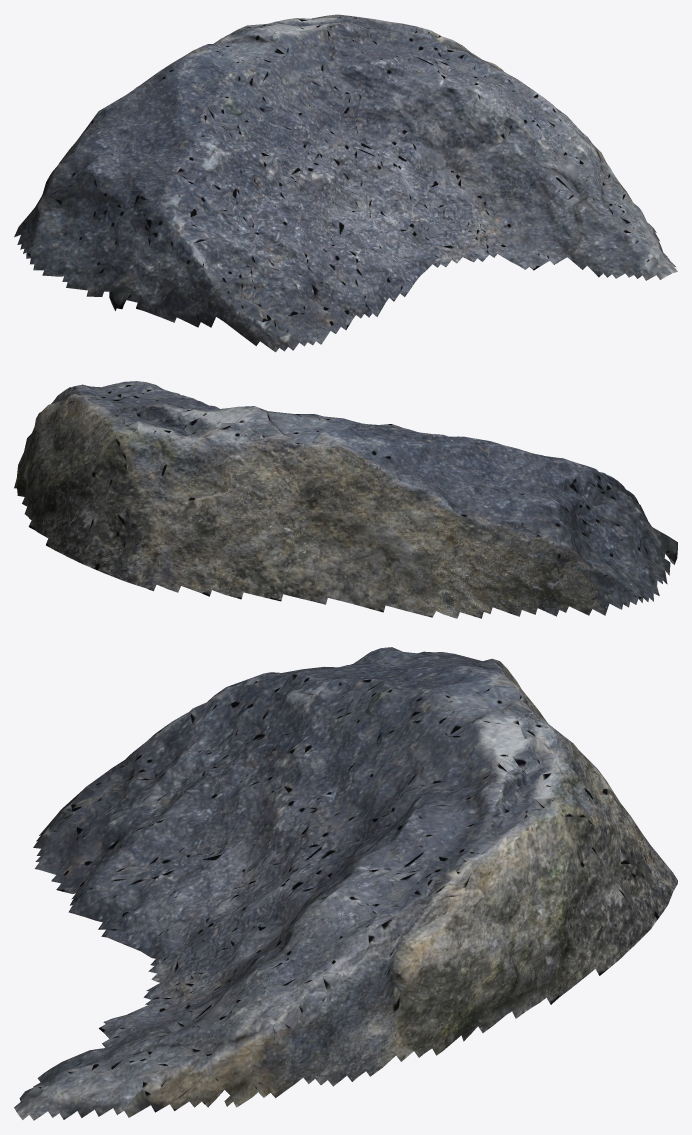
3 renders of one model, top to bottom at view 1: azimuth 30°, elevation 25°; view 2: azimuth 150°, elevation 25°; view 3: azimuth 270°, elevation 25°, orthographic. The views are drawn at different scales.
Parts seen in each view (by area): view 1: rock 04; view 2: rock 04; view 3: rock 04.
Boxes of the visible parts, x1=… form: rock 04: x1=14, y1=14, x2=677, y2=352; rock 04: x1=14, y1=381, x2=677, y2=618; rock 04: x1=14, y1=647, x2=677, y2=1120.
Size of the model in its own units: 1.17 by 0.3561 by 0.8846.
1 material, 1 textured.
